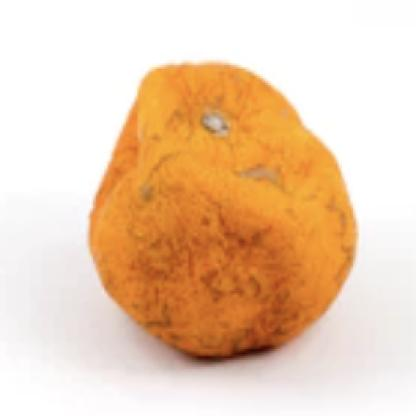rotten: (85, 64, 361, 369)
